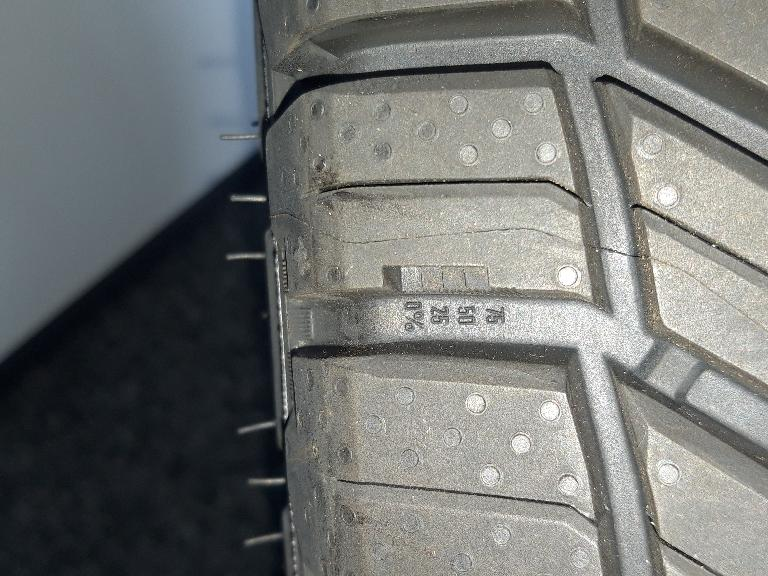temoin:100: (376, 258, 532, 306)
